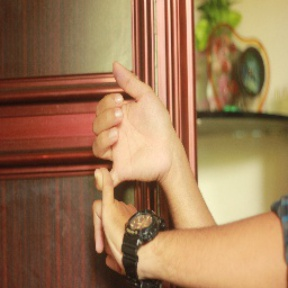S: (85, 57, 178, 265)
